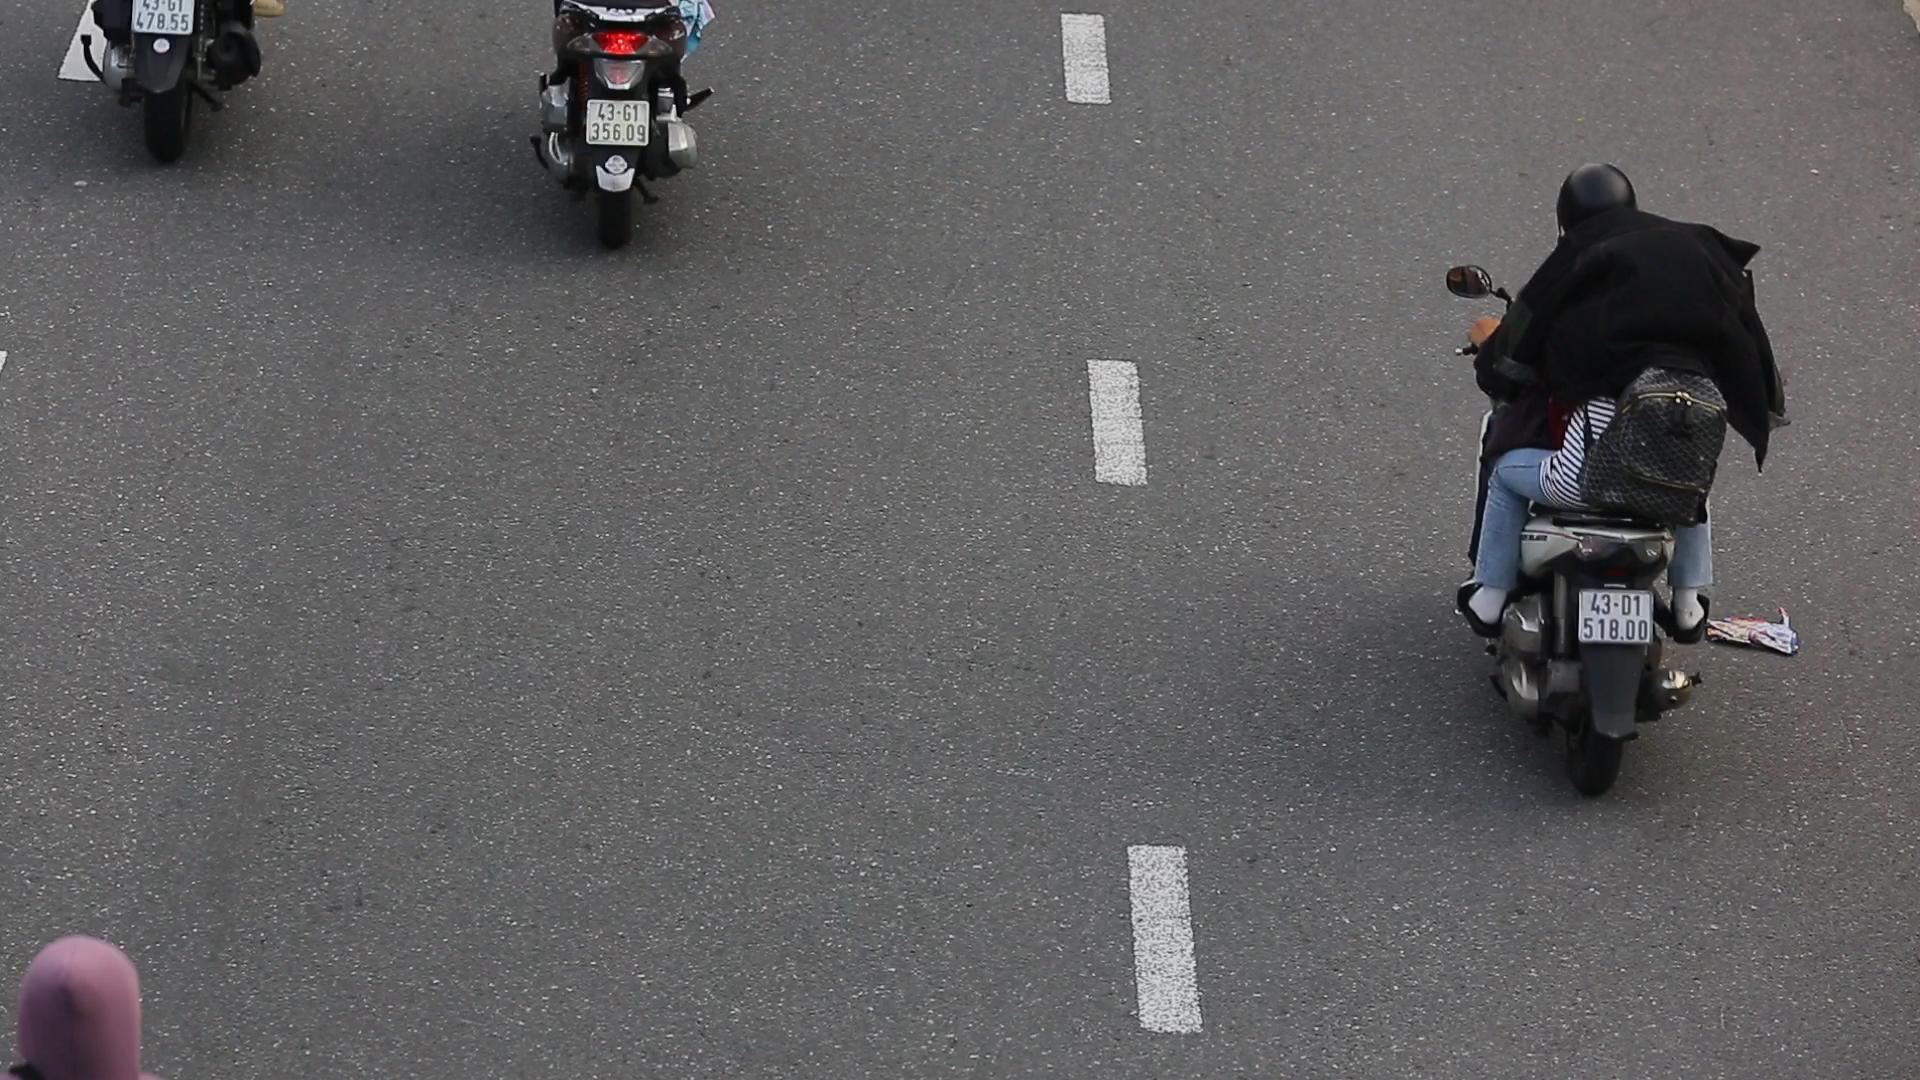motobike: (1452, 156, 1782, 815)
